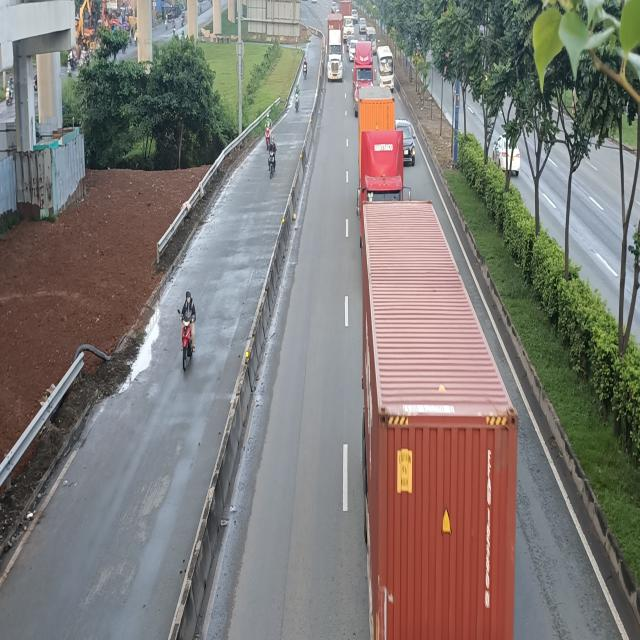coach: (377, 46, 396, 96)
container: (360, 205, 516, 640), (357, 89, 405, 264), (325, 14, 344, 82), (352, 42, 372, 102)
